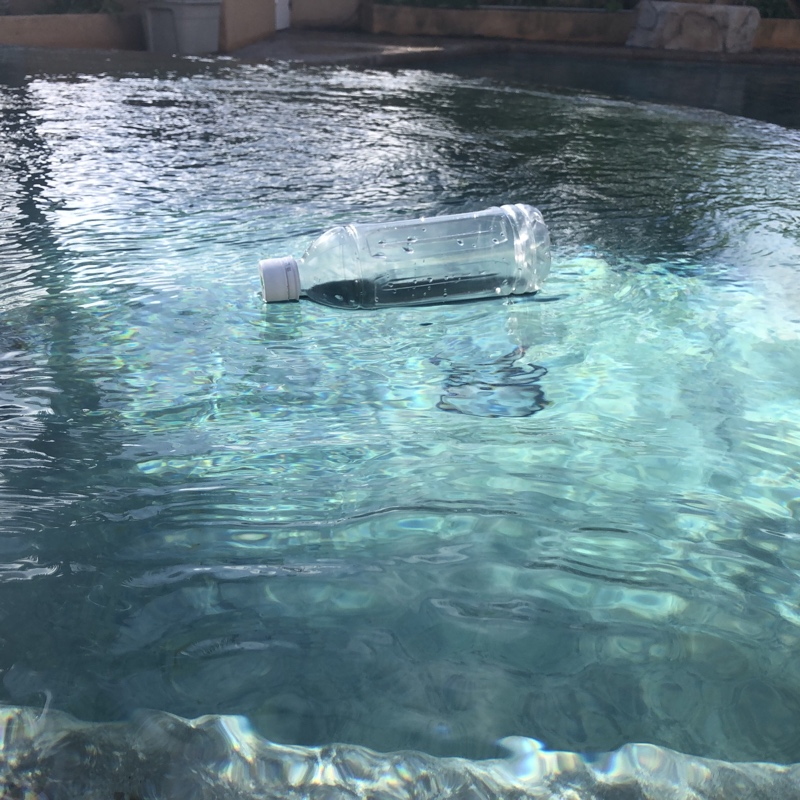Plastic Bottle: (255, 199, 557, 308)
